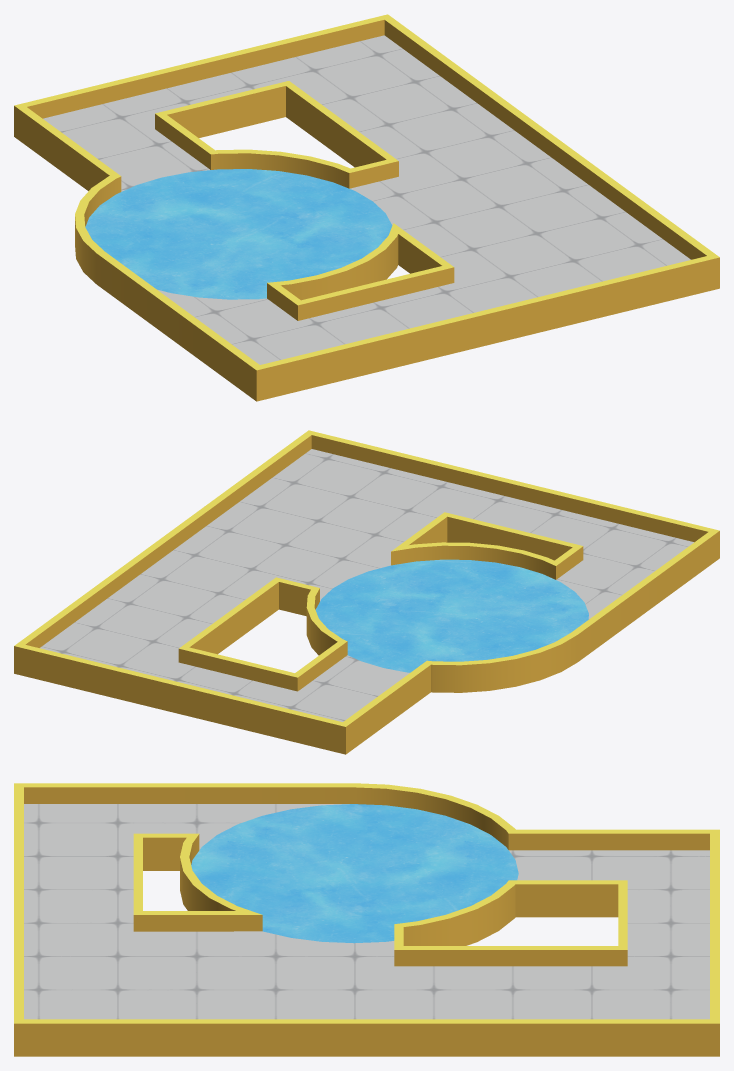
Rendered from battle_stage_20.fbx.
3 renders of one model, top to bottom at view 1: azimuth 30°, elevation 25°; view 2: azimuth 150°, elevation 25°; view 3: azimuth 270°, elevation 25°, orthographic. The views are drawn at different scales.
Parts seen in each view (by area): view 1: Cylinder.055, Cylinder.059; view 2: Cylinder.055, Cylinder.059; view 3: Cylinder.055, Cylinder.059.
Boxes of the visible parts, x1,y1,x2,y2 form: Cylinder.055: (43,35,690,364); Cylinder.059: (14,14,719,401); Cylinder.055: (40,449,693,721); Cylinder.059: (14,430,719,754); Cylinder.055: (24,804,709,1019); Cylinder.059: (14,783,719,1056).
Bounding box in the file's own units: 6216 × 400 × 7716.
